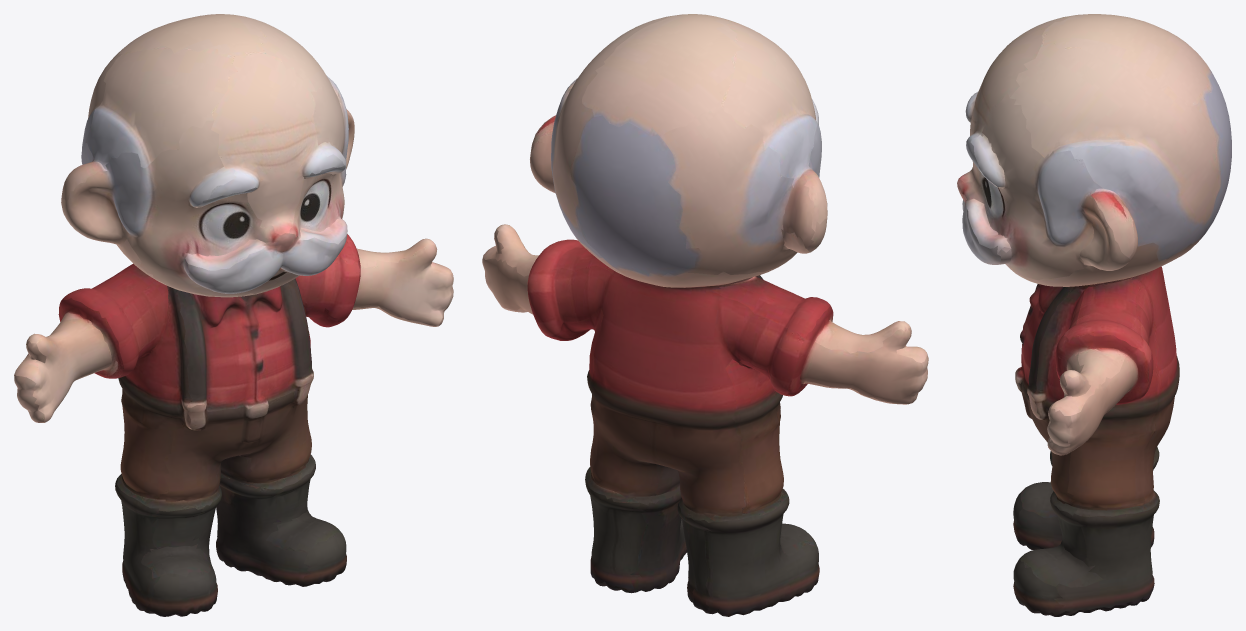
Rendered from corran.glb.
3 views of the same model, side by side, from view 1: azimuth 30°, elevation 25°; view 2: azimuth 150°, elevation 25°; view 3: azimuth 270°, elevation 25° (orthographic).
Visible parts, largest first — view 1: corran_s12; view 2: corran_s12; view 3: corran_s12.
Part boxes in pixels (x1,y1,x2,y2): corran_s12: (14, 14, 453, 616); corran_s12: (482, 14, 928, 616); corran_s12: (957, 14, 1231, 616).
Bounding box in the file's own units: 0.8334 × 1 × 0.4576.
1 material, 1 textured.
